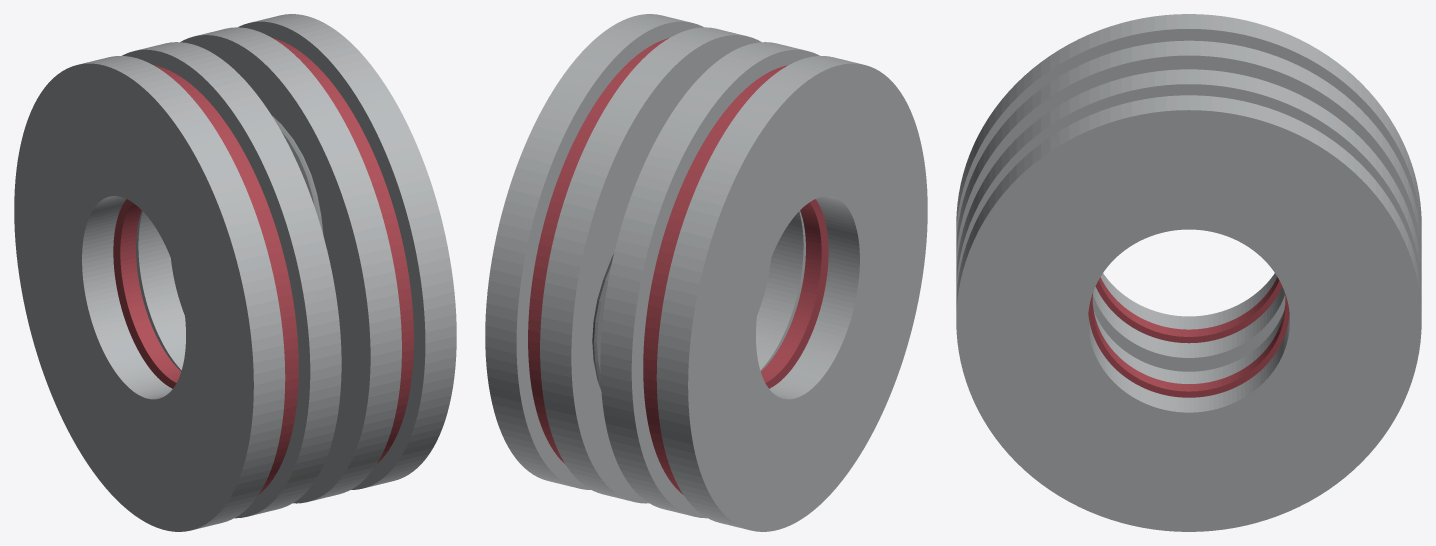
The model's file is friction clutch stack.glb.
3 renders of one model, left to right at view 1: azimuth 30°, elevation 25°; view 2: azimuth 150°, elevation 25°; view 3: azimuth 270°, elevation 25°, orthographic. The views are drawn at different scales.
Visible parts, largest first — view 1: Mesh_Mesh_head_geo.001_lambert2SG.001; view 2: Mesh_Mesh_head_geo.001_lambert2SG.001; view 3: Mesh_Mesh_head_geo.001_lambert2SG.001.
Part boxes in pixels (x1,y1,x2,y2): Mesh_Mesh_head_geo.001_lambert2SG.001: (14, 14, 456, 531); Mesh_Mesh_head_geo.001_lambert2SG.001: (485, 14, 927, 531); Mesh_Mesh_head_geo.001_lambert2SG.001: (956, 14, 1421, 531).
Bounding box in the file's own units: 0.013 × 0.0265 × 0.0265.
